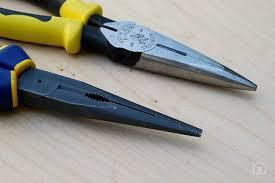pliers: (0, 0, 257, 91), (0, 43, 202, 137)
